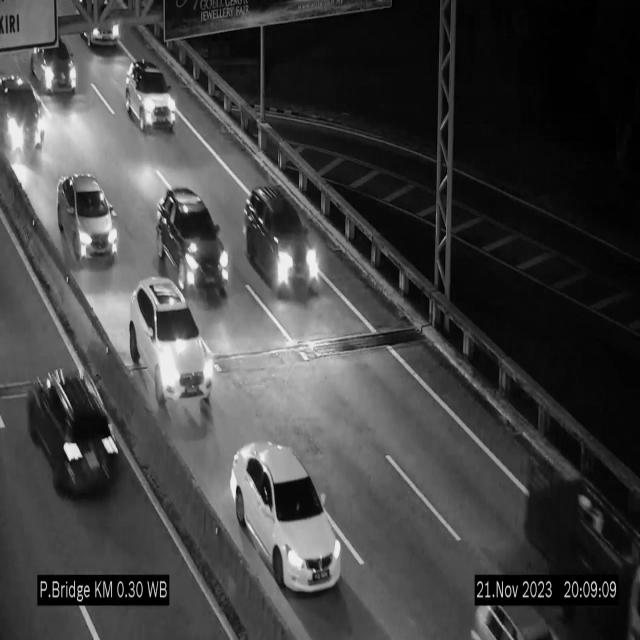Car: (230, 442, 342, 592), (24, 351, 128, 512), (127, 272, 216, 411), (245, 187, 321, 297), (156, 182, 229, 293), (470, 582, 566, 640), (58, 172, 119, 262), (0, 72, 46, 162), (126, 59, 176, 132), (27, 37, 82, 103), (79, 0, 125, 51)
Truck: (513, 399, 640, 640)
